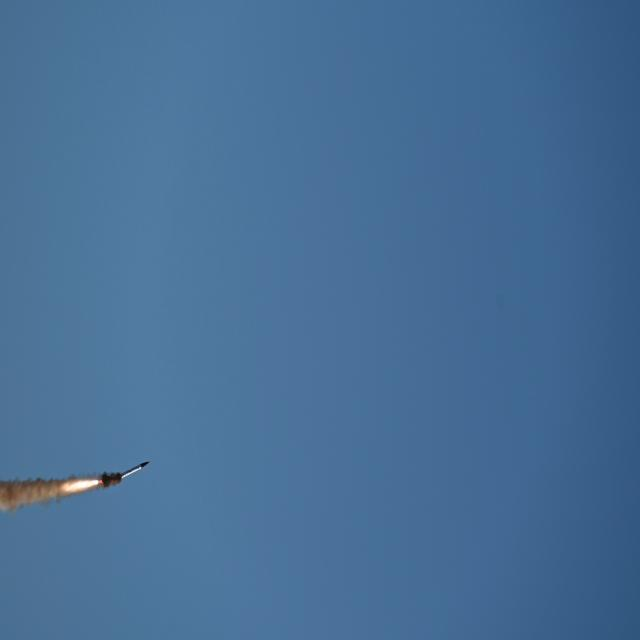Rocket: (118, 460, 151, 480)
